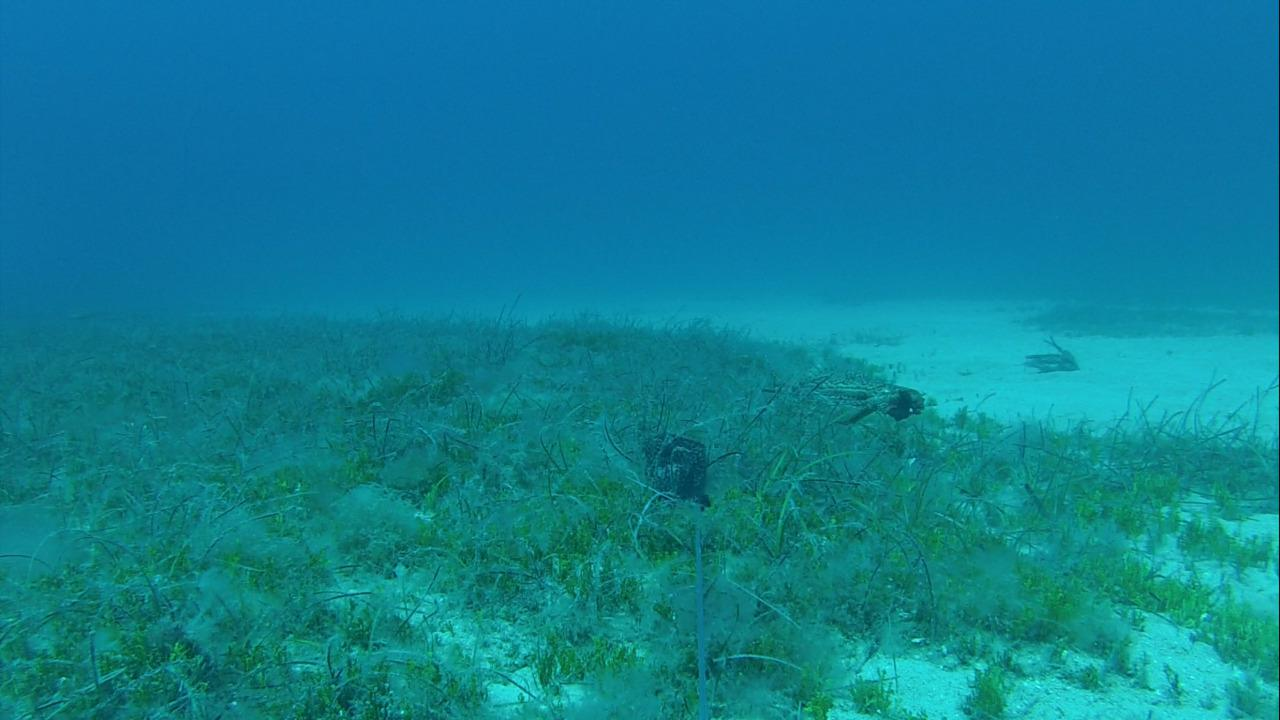dactylopterus: (748, 363, 935, 436)
